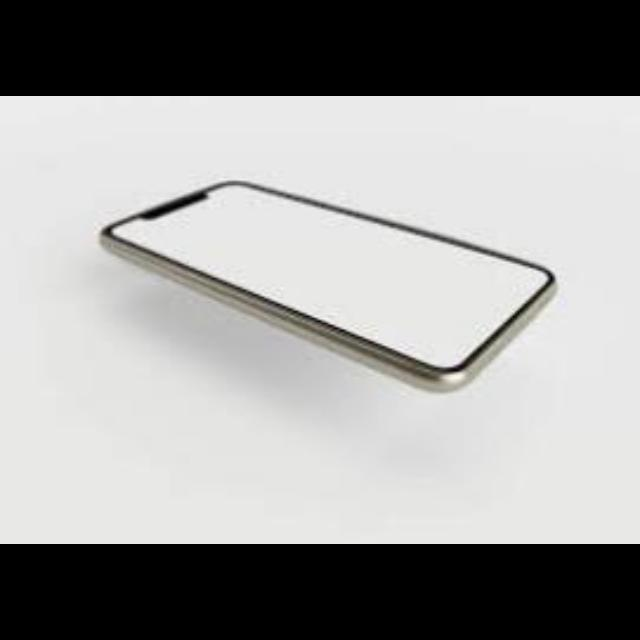phone: (102, 173, 554, 377)
